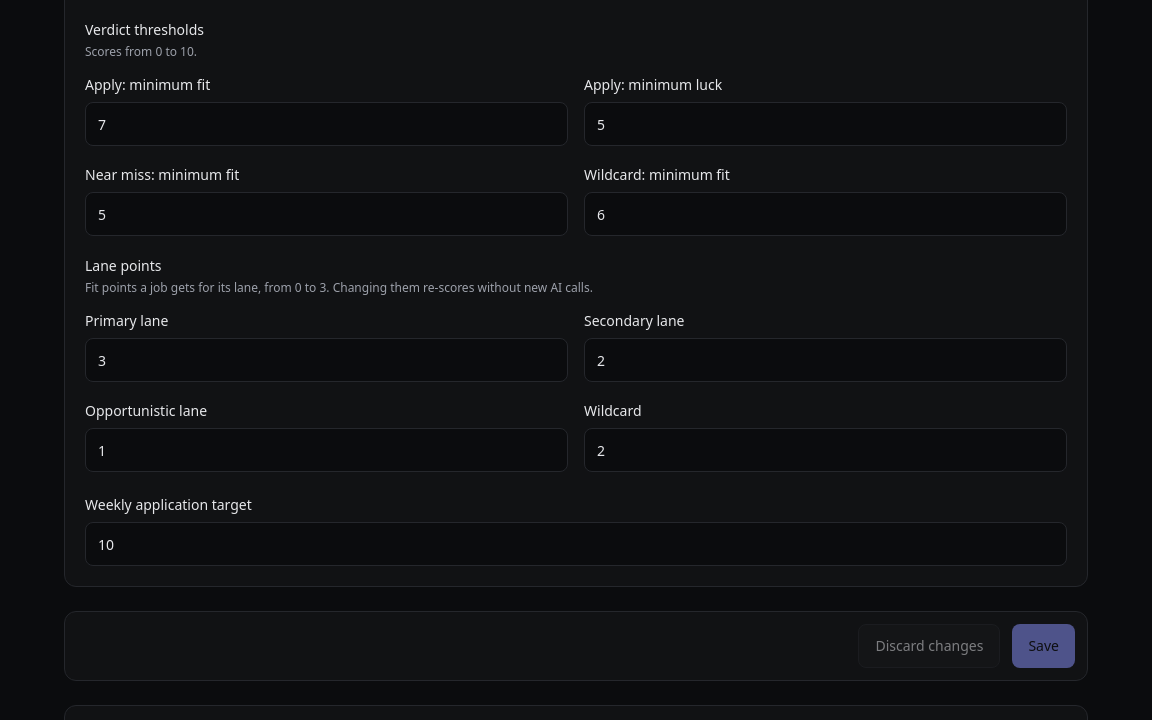
Test case: Criteria form › rejects lane points above 3
(page scrolled)
Replace the text in the number field labelled "Primary lane" with "4" at (326, 360), box [85,338,568,382]
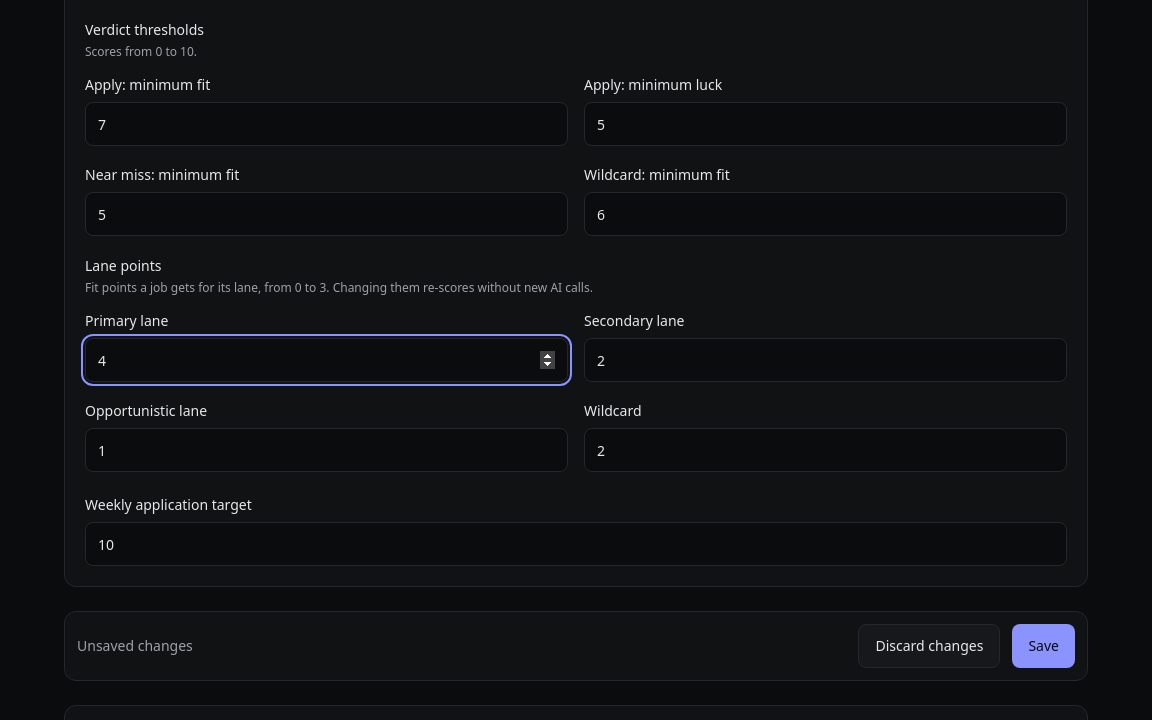
Click the button "Save" at (1044, 646), box [1012,624,1075,668]
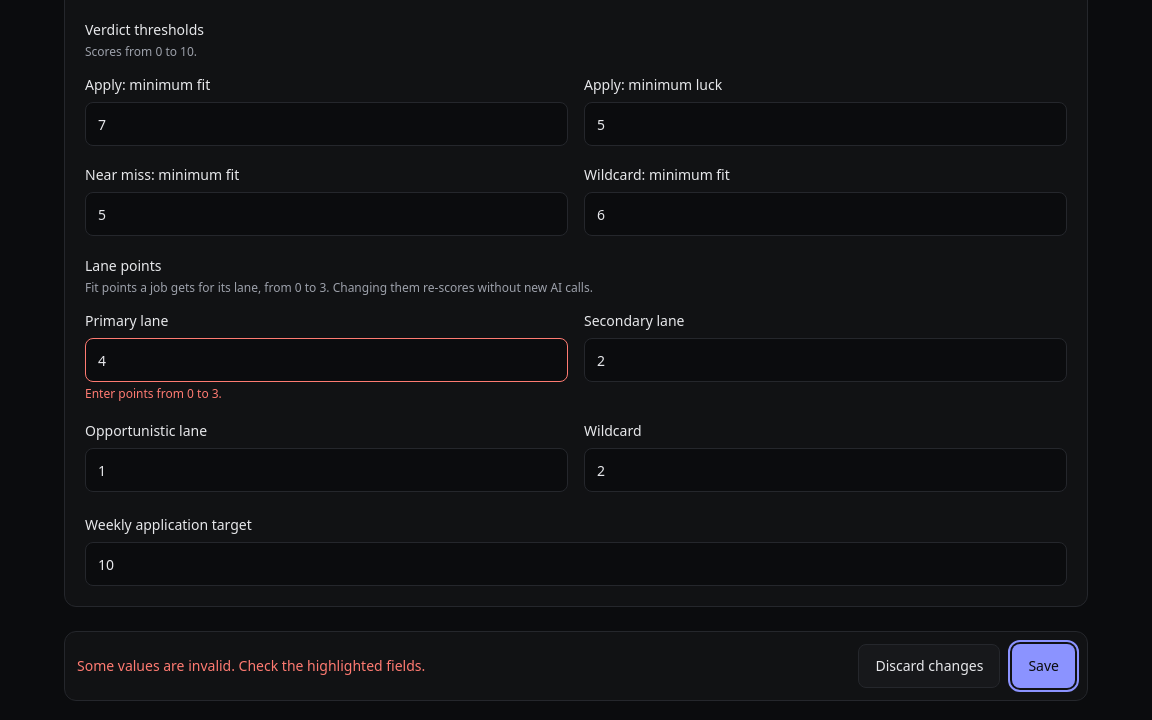
Expected: the text "Enter points from 0 to 3." is shown, [85,385,222,402]
